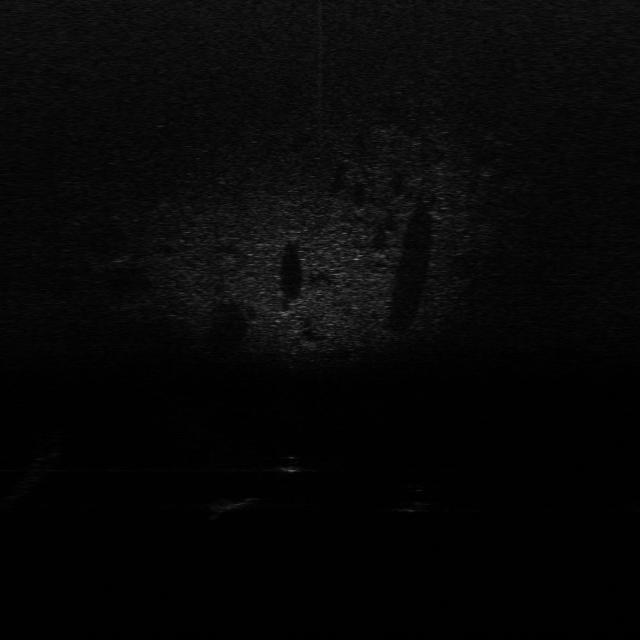ball: (273, 454, 306, 475)
square cage: (202, 493, 257, 515)
tyre: (393, 483, 439, 516)
